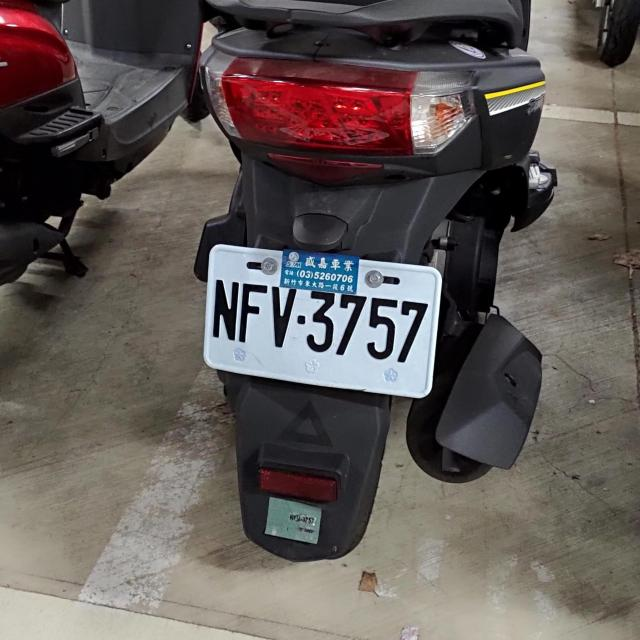W: (198, 240, 443, 397)
